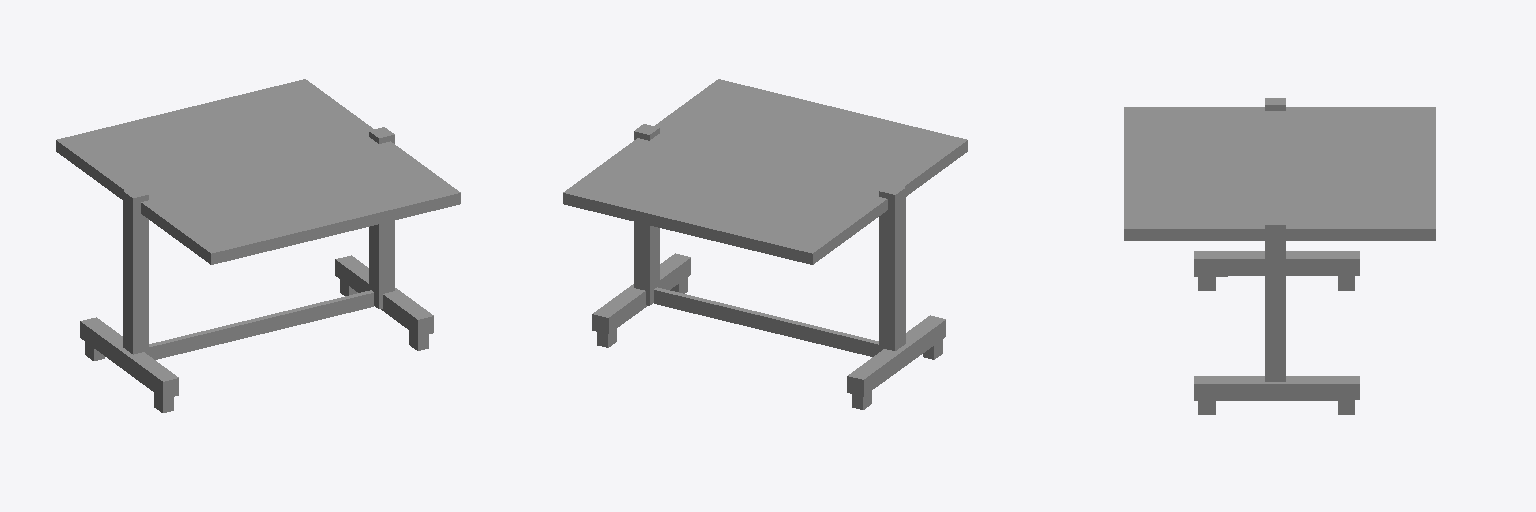
The model's file is mesh_table.obj.
3 renders of one model, left to right at view 1: azimuth 30°, elevation 25°; view 2: azimuth 150°, elevation 25°; view 3: azimuth 270°, elevation 25°, orthographic.
Visible parts, largest first — view 1: Cube; view 2: Cube; view 3: Cube.
Part boxes in pixels (x1,y1,x2,y2): Cube: (56, 79, 460, 412); Cube: (563, 79, 967, 409); Cube: (1124, 98, 1435, 414).
Size of the model in its own units: 4.01 by 2.68 by 3.98.